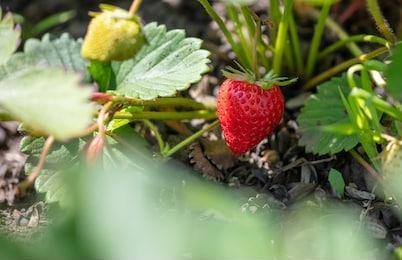Fresa: (214, 67, 287, 160)
